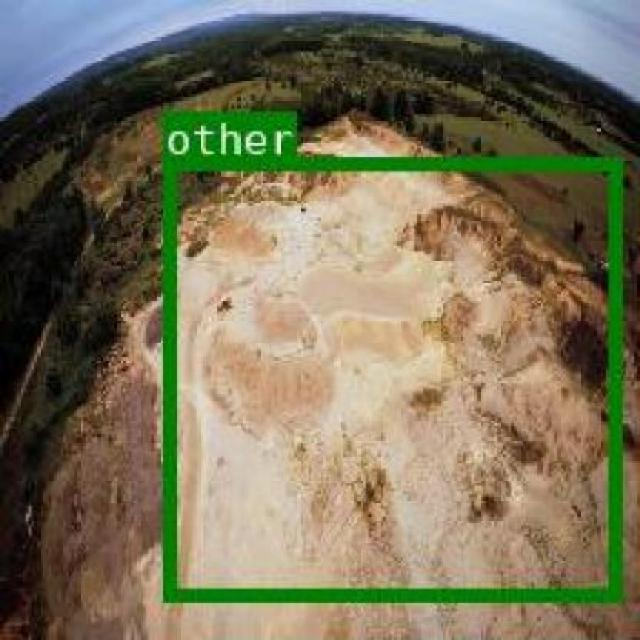other: (160, 156, 620, 598)
